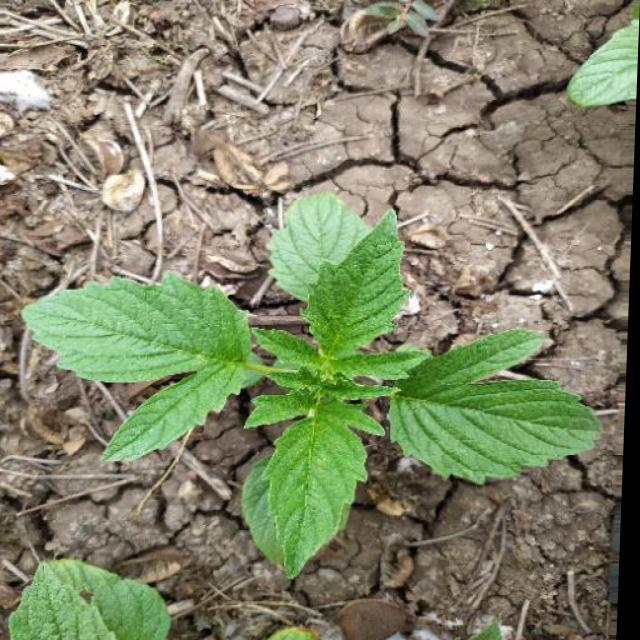crop: (0, 151, 607, 575)
